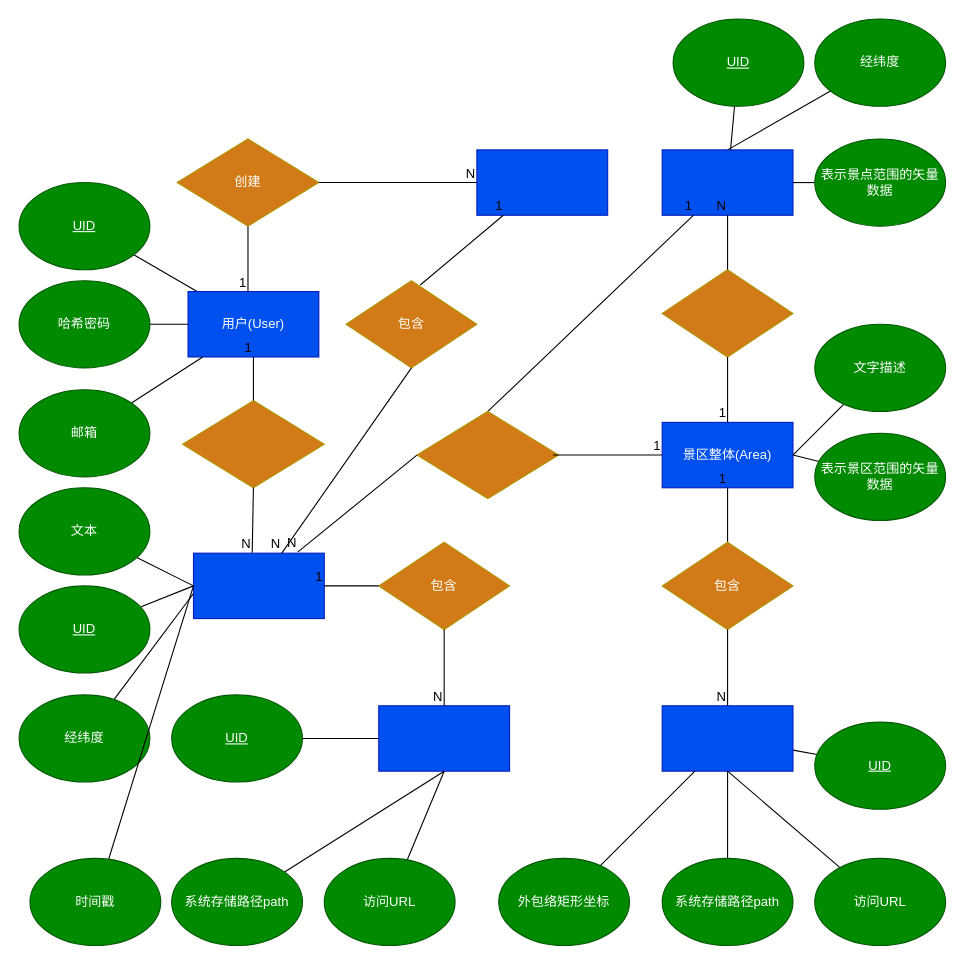
Some shapes in this 965 by 965 pixel diagram are drawn without their labels. Here are the shapes that lost their labels. From the top down, the centre of each, then its label:
At point 542,182: "相册、足迹、导览线路(Trace)".
At point 727,182: "景点(Attraction)".
At point 727,313: "组成".
At point 252,443: "发送".
At point 487,454: "精选".
At point 258,585: "帖子(Post)".
At point 444,738: "图片(image)".
At point 727,738: "栅格数据".
